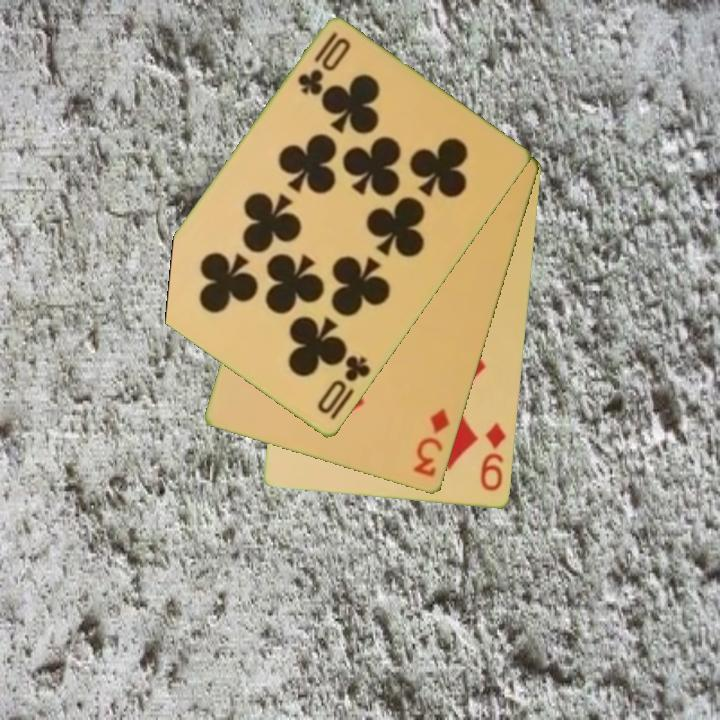10c: (294, 29, 354, 100), (313, 352, 374, 418)
3d: (410, 405, 453, 481)
9d: (477, 419, 509, 495)
